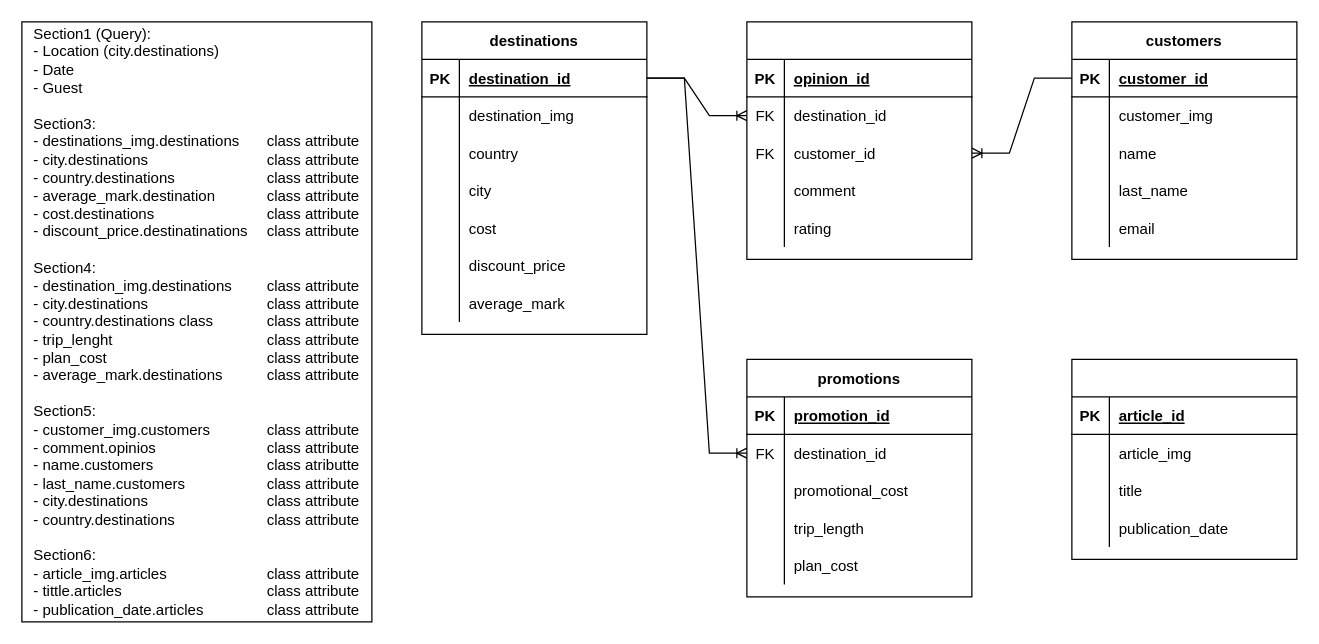
Image size: 1319x644. Some labels were removed from this diagram. The shapes that lost their labels are listed below. From the top down, each one's box as (x1, y1, x2, y2) in pixels, then its label:
(746, 21, 972, 259): opinions
(1071, 358, 1297, 559): articles
